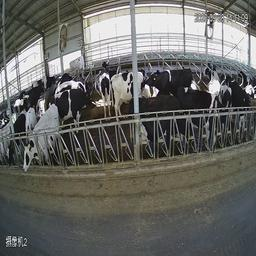cow: (128, 96, 192, 174), (19, 103, 63, 185), (185, 82, 225, 150), (53, 79, 100, 126), (223, 74, 251, 152), (113, 66, 149, 115), (141, 62, 195, 92), (5, 98, 27, 161), (94, 59, 112, 125), (199, 59, 224, 95), (19, 75, 47, 106), (66, 47, 86, 74), (239, 62, 254, 97)
